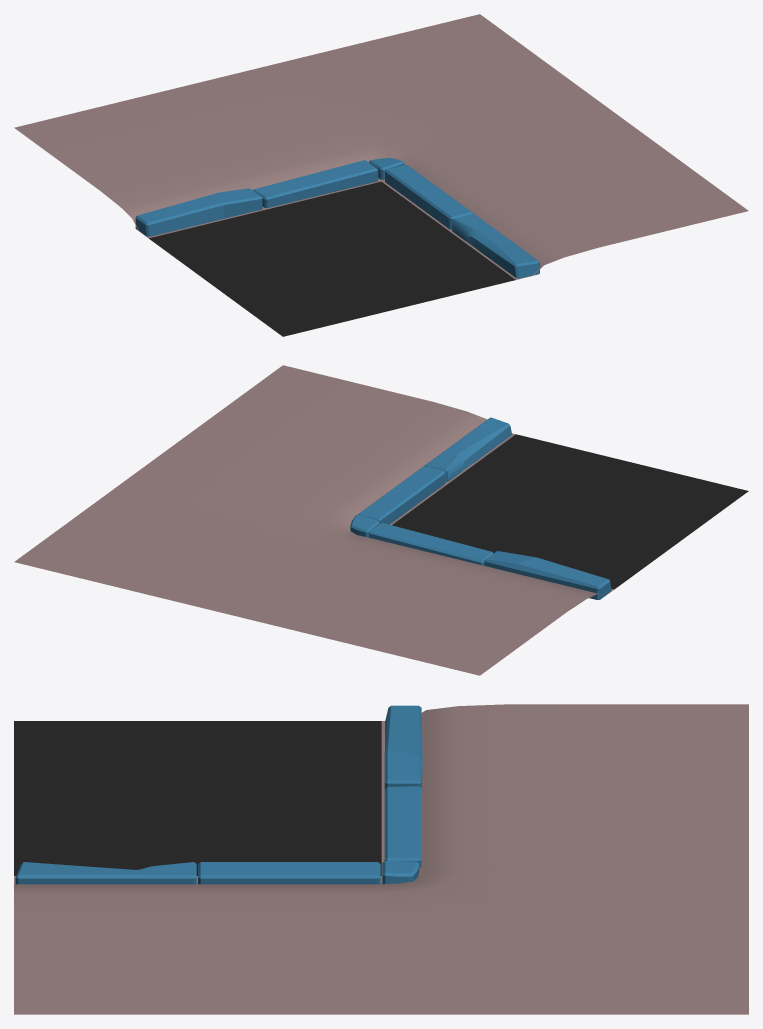
The model's file is notrans corner in lod0.FBX.
3 views of the same model, one above another, from view 1: azimuth 30°, elevation 25°; view 2: azimuth 150°, elevation 25°; view 3: azimuth 270°, elevation 25° (orthographic). The views are drawn at different scales.
Parts seen in each view (by area): view 1: Plane057; view 2: Plane057; view 3: Plane057.
Part boxes in pixels (x1,y1,x2,y2): Plane057: (14, 14, 748, 336); Plane057: (14, 365, 748, 675); Plane057: (14, 704, 748, 1014).
Bounding box in the file's own units: 3 × 0.0974 × 3.
